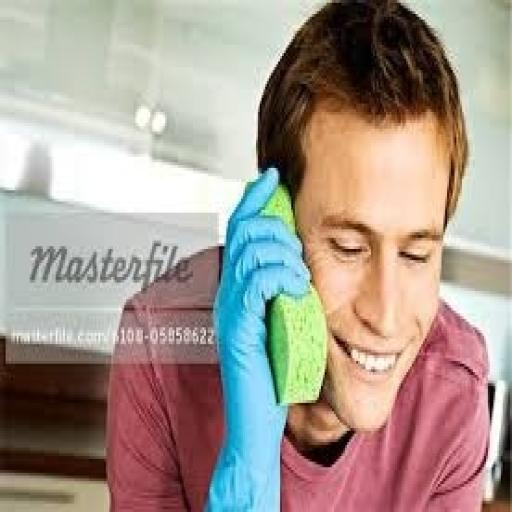calling: (102, 0, 493, 509)
